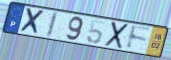5: (86, 18, 107, 44)
9: (65, 16, 85, 42)
F: (126, 24, 152, 51)
I: (45, 11, 60, 39)
X: (103, 20, 131, 50), (19, 7, 46, 36)
